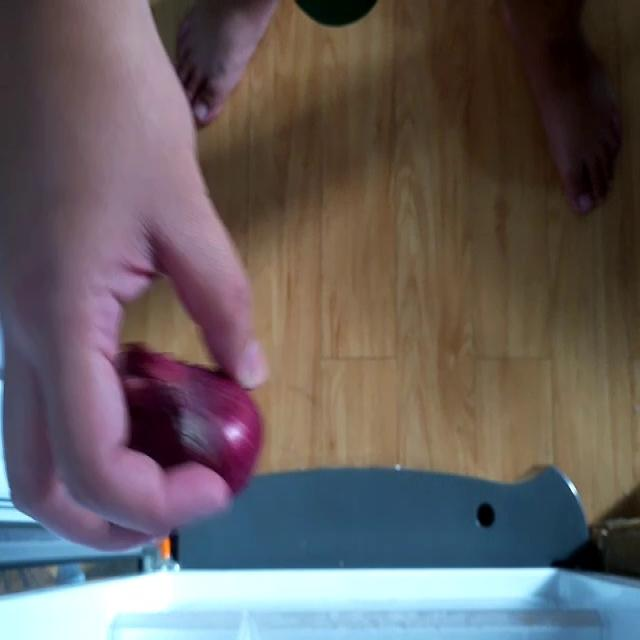onion: (113, 345, 261, 502)
